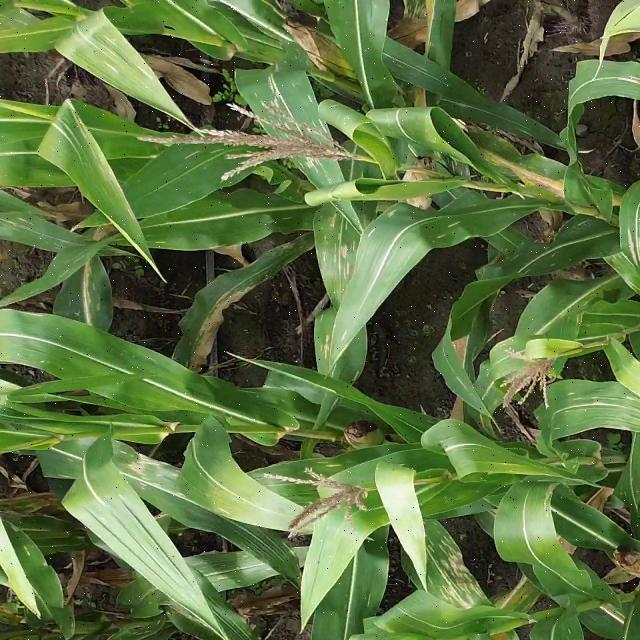gray-leaf-spot: (250, 67, 326, 160), (412, 520, 483, 608), (112, 443, 195, 501), (362, 204, 466, 241), (94, 31, 162, 84), (558, 385, 634, 431), (318, 212, 364, 280), (5, 213, 81, 254), (501, 242, 575, 281), (194, 549, 264, 588), (175, 136, 237, 180), (310, 312, 350, 365), (1, 6, 49, 36), (310, 451, 366, 476)
northern-leaf-blight: (475, 141, 582, 198), (64, 261, 110, 322), (619, 224, 640, 266)
